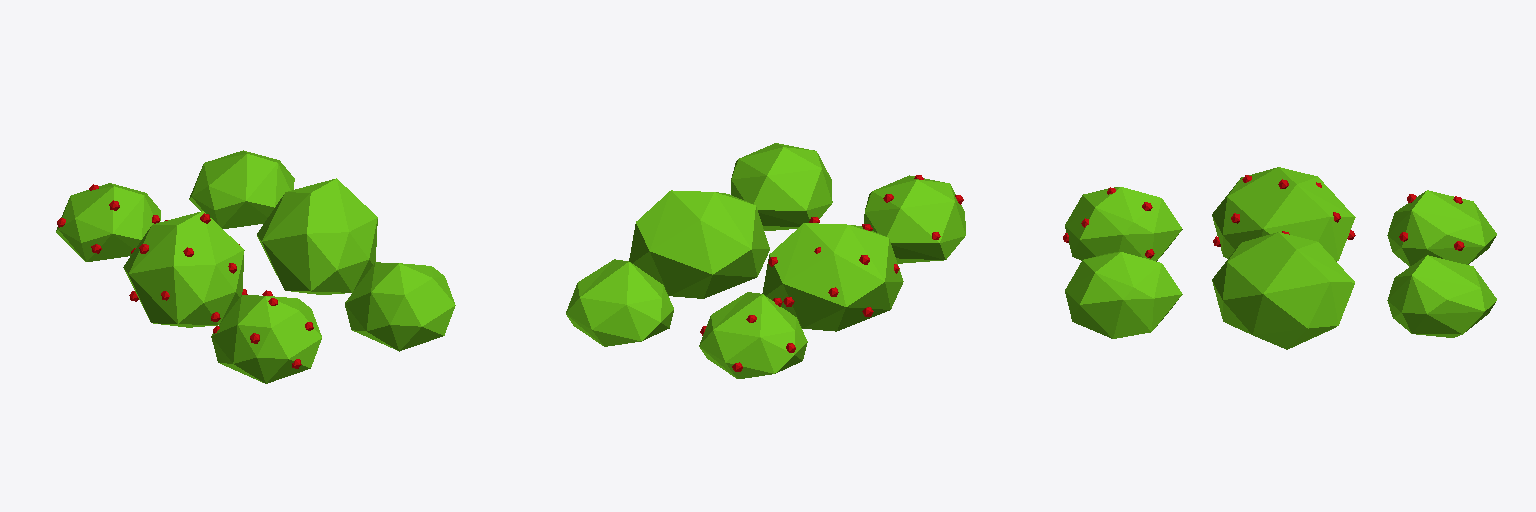
File: Bushes.obj
3 views of the same model, side by side, from view 1: azimuth 30°, elevation 25°; view 2: azimuth 150°, elevation 25°; view 3: azimuth 270°, elevation 25° (orthographic).
Visible parts, largest first — view 1: Bush02.001_Icosphere.009, Bush02_Icosphere.001, Bush01.001_Icosphere.007, Bush01_Icosphere.003, Bush03.001_Icosphere.008, Bush03_Icosphere.002, BushBerry02_Icosphere.004; view 2: Bush02.001_Icosphere.009, Bush02_Icosphere.001, Bush03.001_Icosphere.008, Bush01.001_Icosphere.007, Bush01_Icosphere.003, Bush03_Icosphere.002, BushBerry02_Icosphere.004; view 3: Bush02.001_Icosphere.009, Bush02_Icosphere.001, Bush01.001_Icosphere.007, Bush03.001_Icosphere.008, Bush01_Icosphere.003, Bush03_Icosphere.002.
Boxes of the visible parts, x1,y1,x2,y2 form: Bush02.001_Icosphere.009: [257, 178, 377, 294]; Bush02_Icosphere.001: [123, 211, 244, 327]; Bush01.001_Icosphere.007: [345, 262, 455, 351]; Bush01_Icosphere.003: [211, 295, 321, 383]; Bush03.001_Icosphere.008: [189, 150, 294, 228]; Bush03_Icosphere.002: [56, 183, 160, 261]; BushBerry02_Icosphere.004: [129, 213, 247, 321]; Bush02.001_Icosphere.009: [629, 190, 769, 298]; Bush02_Icosphere.001: [762, 223, 903, 331]; Bush03.001_Icosphere.008: [566, 259, 673, 346]; Bush01.001_Icosphere.007: [731, 143, 832, 230]; Bush01_Icosphere.003: [864, 175, 965, 263]; Bush03_Icosphere.002: [699, 292, 807, 378]; BushBerry02_Icosphere.004: [768, 217, 899, 316]; Bush02.001_Icosphere.009: [1212, 232, 1354, 349]; Bush02_Icosphere.001: [1212, 167, 1355, 261]; Bush01.001_Icosphere.007: [1065, 252, 1182, 338]; Bush03.001_Icosphere.008: [1387, 255, 1496, 337]; Bush01_Icosphere.003: [1065, 187, 1182, 261]; Bush03_Icosphere.002: [1387, 190, 1496, 266].
Size of the model in its own units: 7.68 by 3.13 by 11.81.